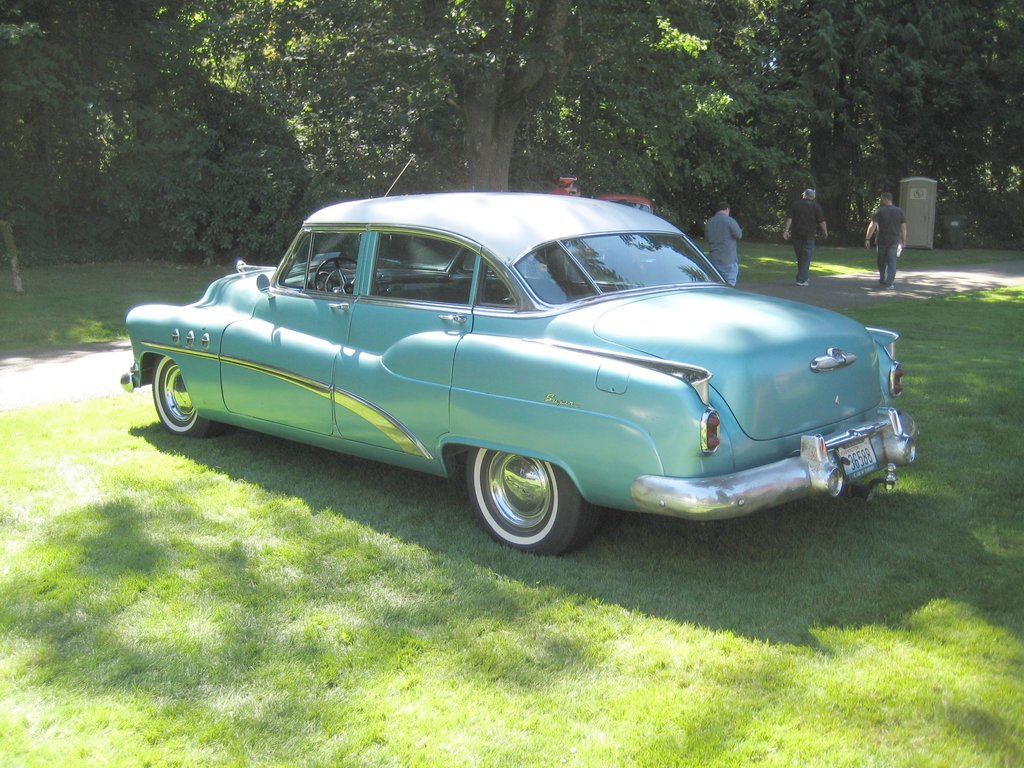Car: (147, 199, 908, 558)
